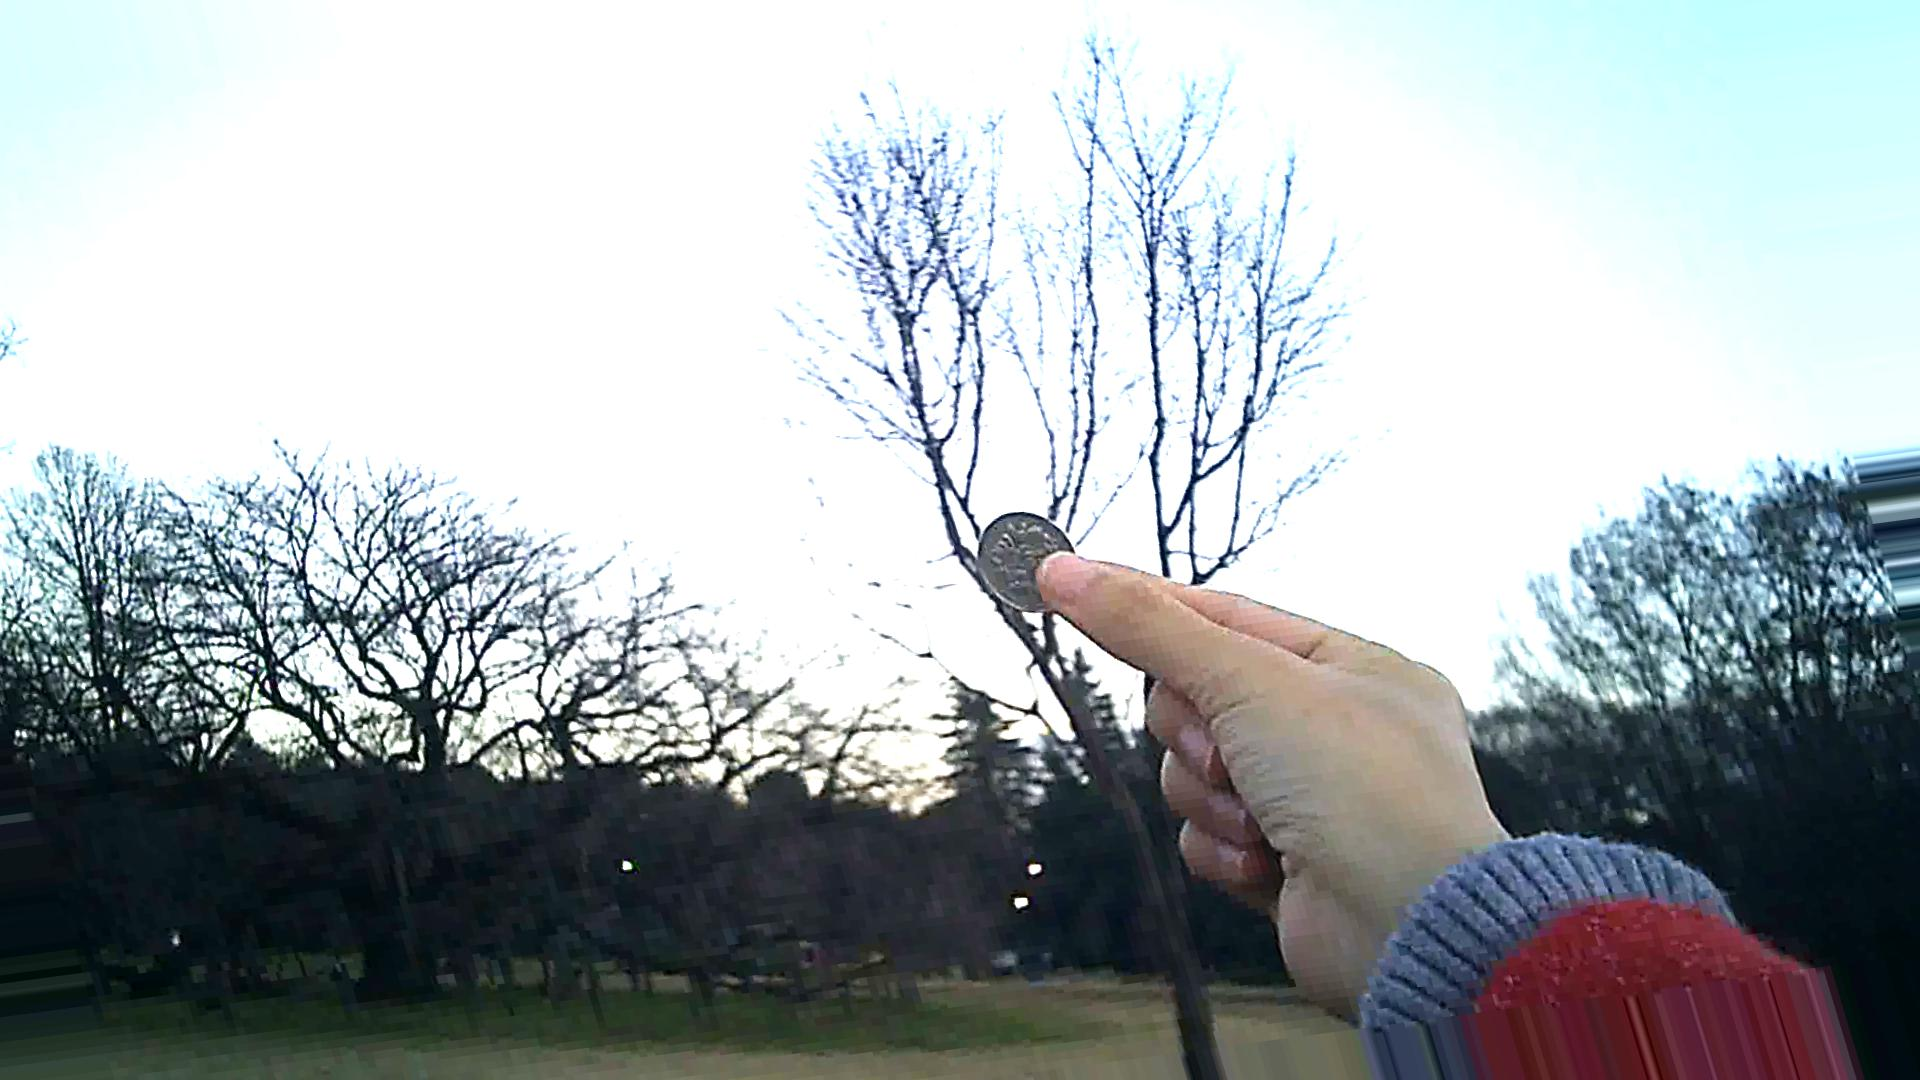100 Yen: (963, 518, 1098, 628)
